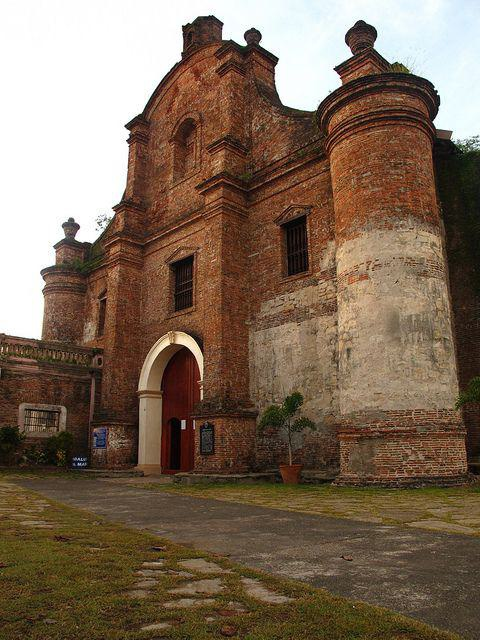santa_maria_church_santa_maria_ilocos_sur: (37, 9, 472, 490)
unfinished_paint: (241, 214, 466, 430)
